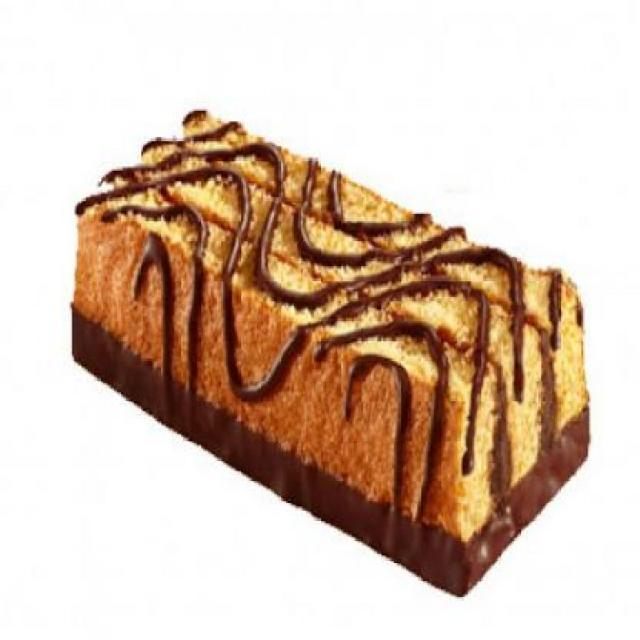Merendine packaged: (66, 110, 588, 601)
